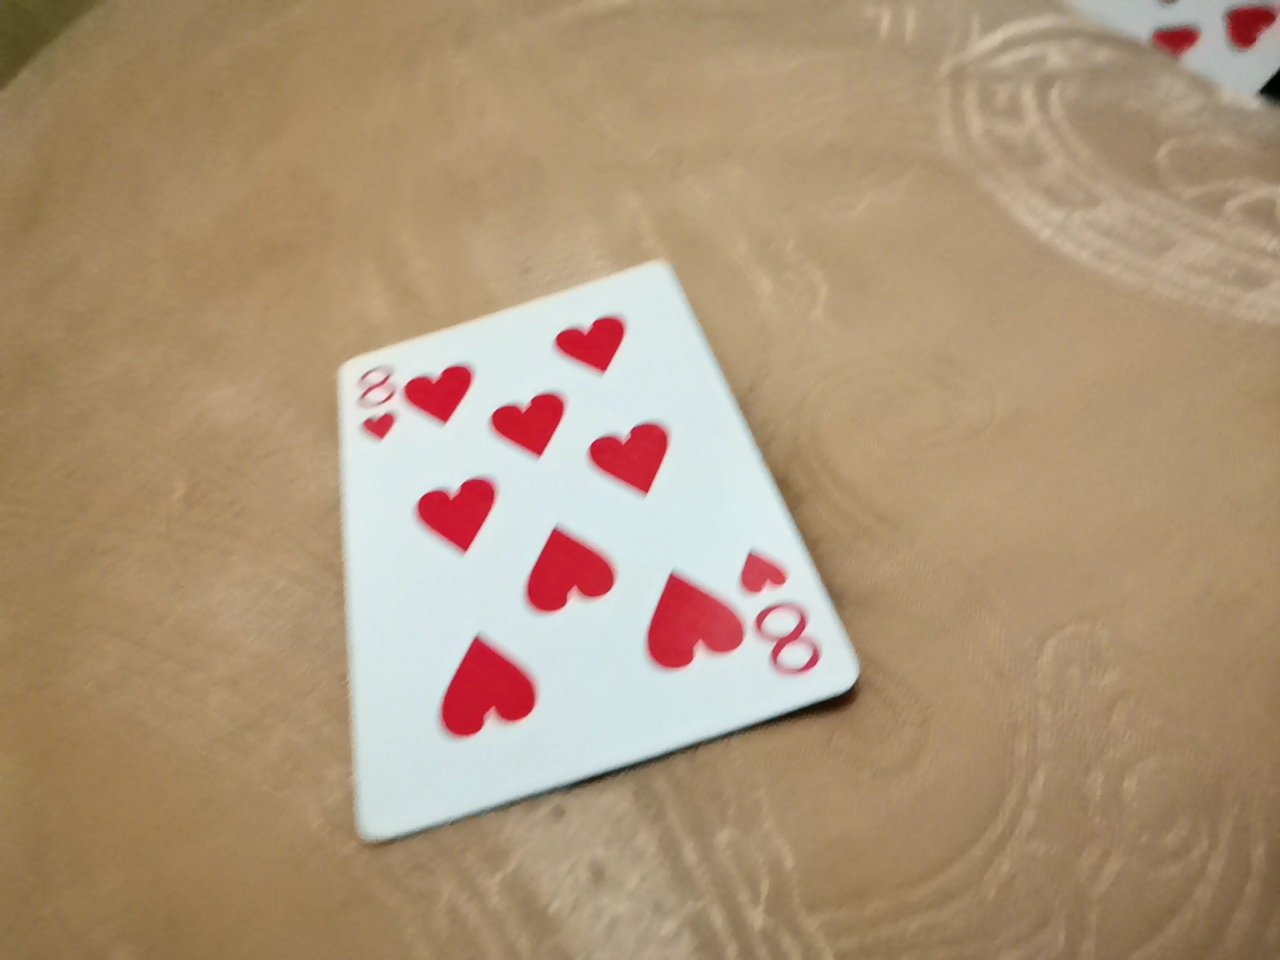hx 8: (315, 325, 829, 915)
